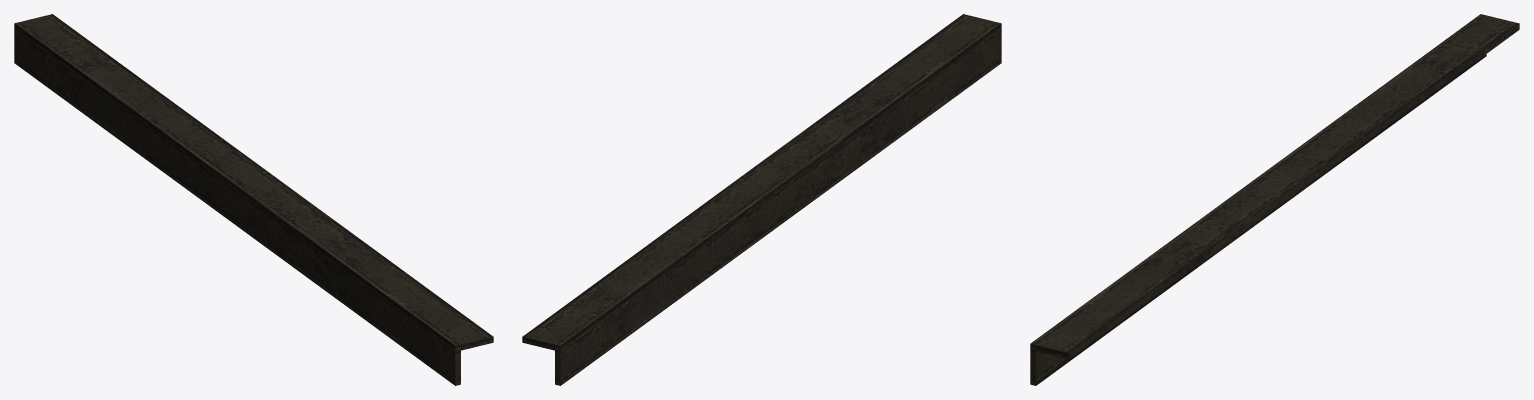
The model's file is seam_hl_2.dae.
3 views of the same model, side by side, from view 1: azimuth 30°, elevation 25°; view 2: azimuth 150°, elevation 25°; view 3: azimuth 330°, elevation 25° (orthographic). The views are drawn at different scales.
Parts seen in each view (by area): view 1: seam_hl_2; view 2: seam_hl_2; view 3: seam_hl_2.
Boxes of the visible parts, x1=… form: seam_hl_2: x1=14, y1=14, x2=493, y2=385; seam_hl_2: x1=522, y1=14, x2=1001, y2=385; seam_hl_2: x1=1030, y1=14, x2=1519, y2=385.
Size of the model in its own units: 0.2 by 4 by 0.2.
Materials: 1 (1 with a texture image).
